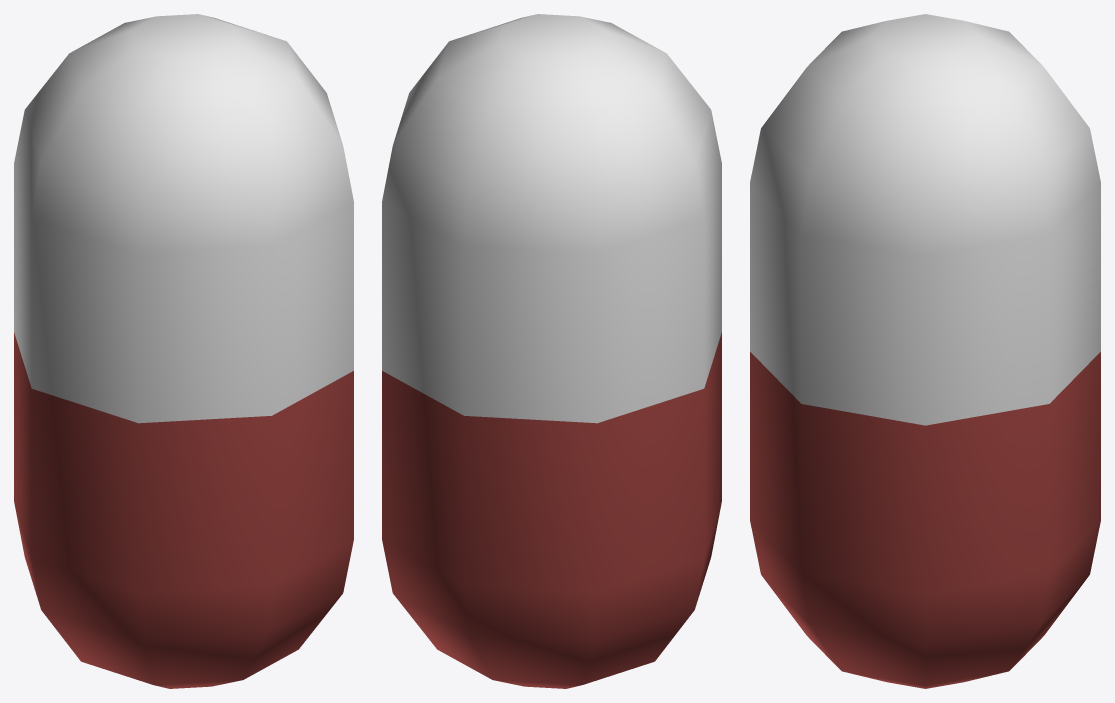
File: pill.glb
3 renders of one model, left to right at view 1: azimuth 30°, elevation 25°; view 2: azimuth 150°, elevation 25°; view 3: azimuth 270°, elevation 25°, orthographic.
Visible parts, largest first — view 1: prop_pill; view 2: prop_pill; view 3: prop_pill.
Part boxes in pixels (box(x1,y1,x2,y2)): prop_pill: box(14, 14, 353, 688); prop_pill: box(382, 14, 721, 688); prop_pill: box(750, 14, 1100, 688).
Size of the model in its own units: 0.0202 by 0.0399 by 0.0202.
